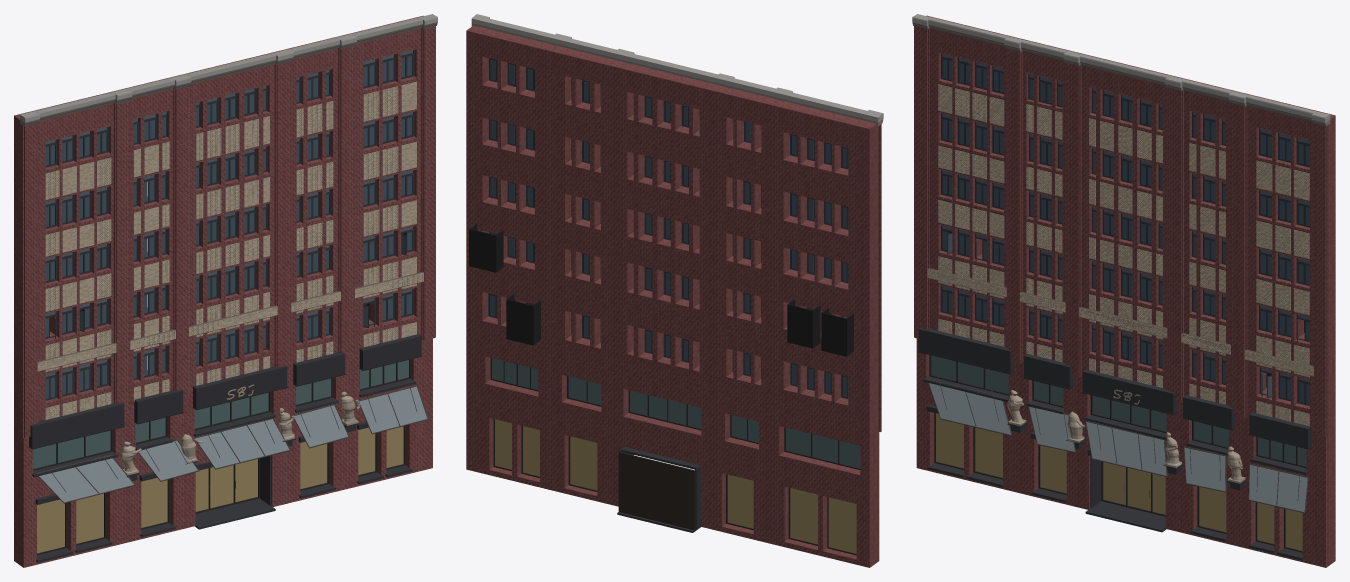
The model's file is huangpu-world-book-company-fuzhou-front-web.glb.
3 views of the same model, side by side, from view 1: azimuth 30°, elevation 25°; view 2: azimuth 150°, elevation 25°; view 3: azimuth 330°, elevation 25° (orthographic).
Visible parts, largest first — view 1: 世界书局福州路立面与外文书店店面; view 2: 世界书局福州路立面与外文书店店面; view 3: 世界书局福州路立面与外文书店店面.
Boxes of the visible parts, left/top/right/bottom form: 世界书局福州路立面与外文书店店面: left=14, top=14, right=437, bottom=567; 世界书局福州路立面与外文书店店面: left=466, top=14, right=883, bottom=567; 世界书局福州路立面与外文书店店面: left=912, top=14, right=1335, bottom=567.
Size of the model in its own units: 26.74 by 28.07 by 2.87.
27 materials, 1 textured.
